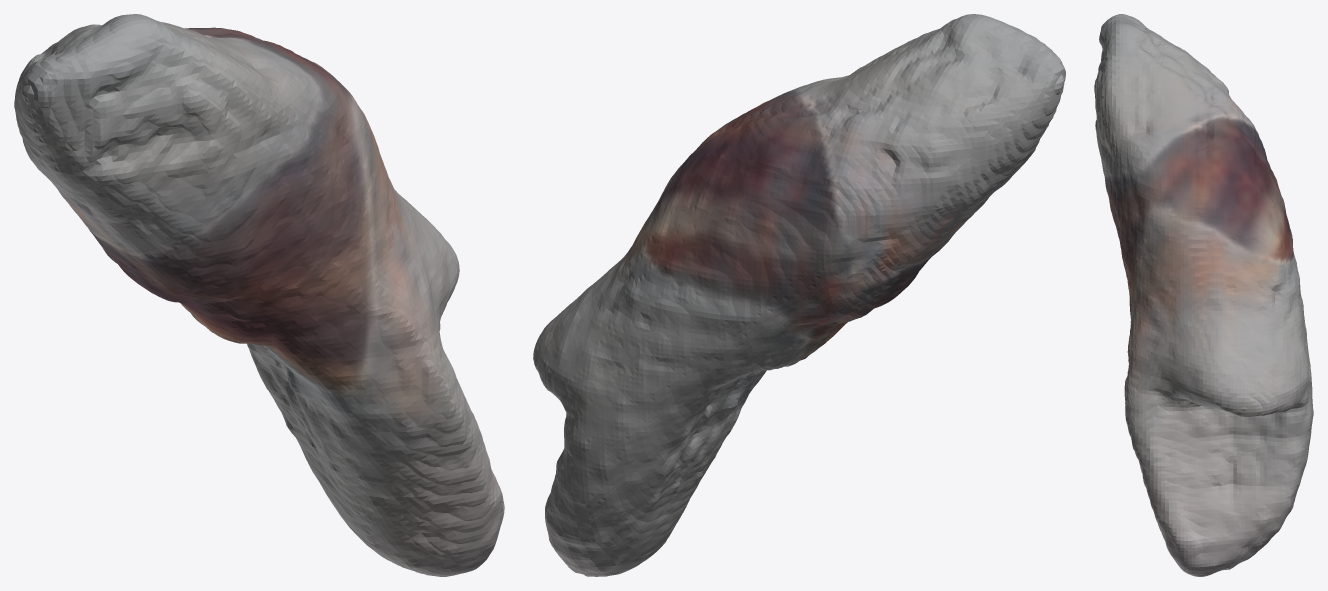
Rendered from apistogramma-diplotaenia.glb.
The picture shows the model from 3 angles, left to right: view 1: azimuth 30°, elevation 25°; view 2: azimuth 150°, elevation 25°; view 3: azimuth 270°, elevation 25°; orthographic projection. The views are drawn at different scales.
Visible parts, largest first — view 1: world; view 2: world; view 3: world.
Part boxes in pixels (x1,y1,x2,y2): world: (14,14,504,576); world: (533,14,1065,576); world: (1094,14,1313,576).
Bounding box in the file's own units: 0.6801 × 0.8621 × 0.395.
